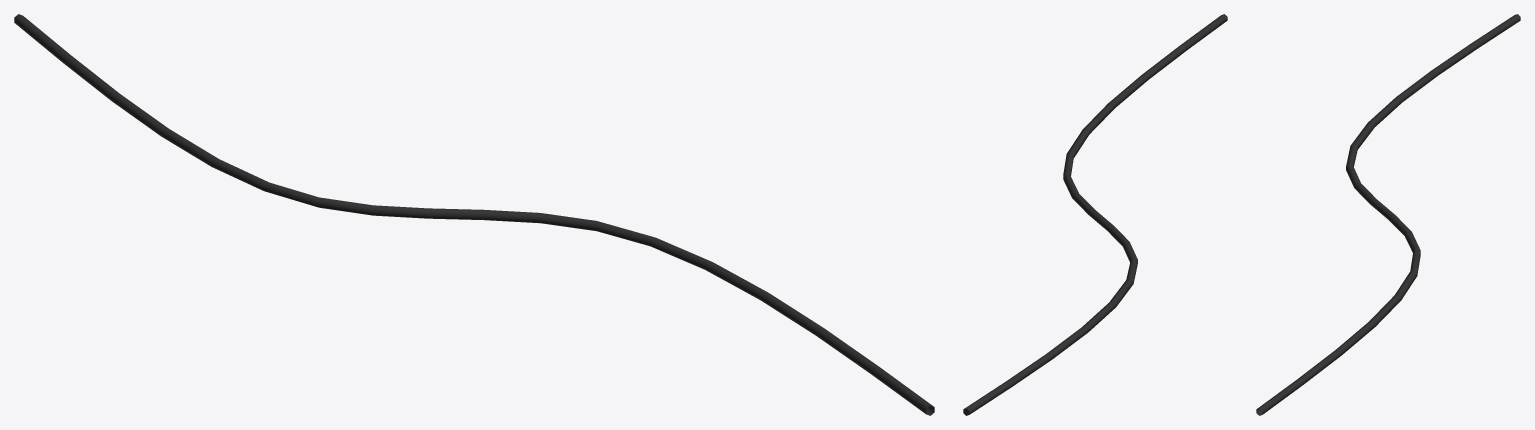
The model's file is SM_Stage_Final_Wire_botton_01.fbx.
The picture shows the model from 3 angles, left to right: view 1: azimuth 30°, elevation 25°; view 2: azimuth 150°, elevation 25°; view 3: azimuth 330°, elevation 25°; orthographic projection. The views are drawn at different scales.
Visible parts, largest first — view 1: SM_Stage_Final_Wire_botton_01; view 2: SM_Stage_Final_Wire_botton_01; view 3: SM_Stage_Final_Wire_botton_01.
Part boxes in pixels (box(x1,y1,x2,y2)): SM_Stage_Final_Wire_botton_01: box(14, 14, 934, 415); SM_Stage_Final_Wire_botton_01: box(963, 14, 1227, 415); SM_Stage_Final_Wire_botton_01: box(1256, 14, 1520, 415).
Bounding box in the file's own units: 60.48 × 2 × 221.
Materials: 1 (1 with a texture image).
